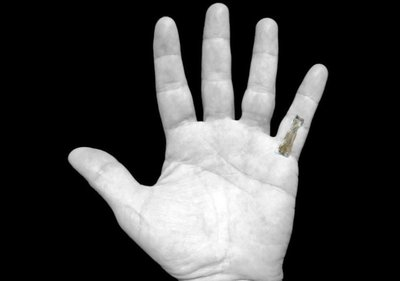mindinho: (273, 46, 343, 165)
